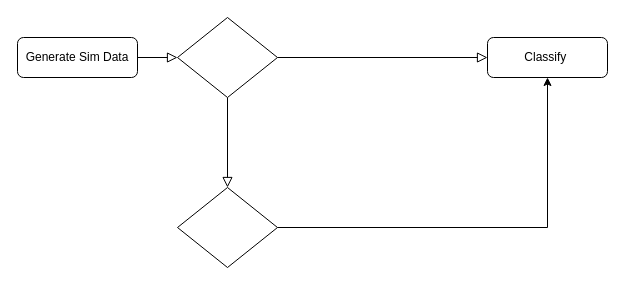
The diagram is 625 pixels wide and 285 high, and some of its shapes have lost their labels. Here are the shapes that lost their labels. From the top down, the centre of each, then its label:
(227,57): Apply Noise
(227,227): Process Probability Terms
